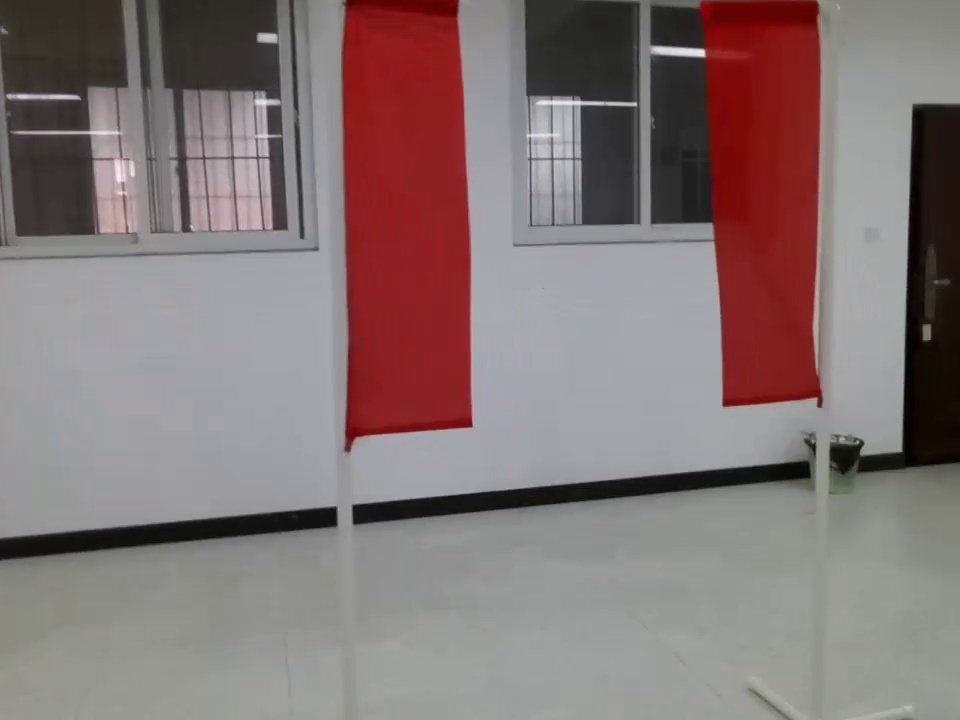qi: (327, 1, 478, 474), (687, 1, 840, 439)
